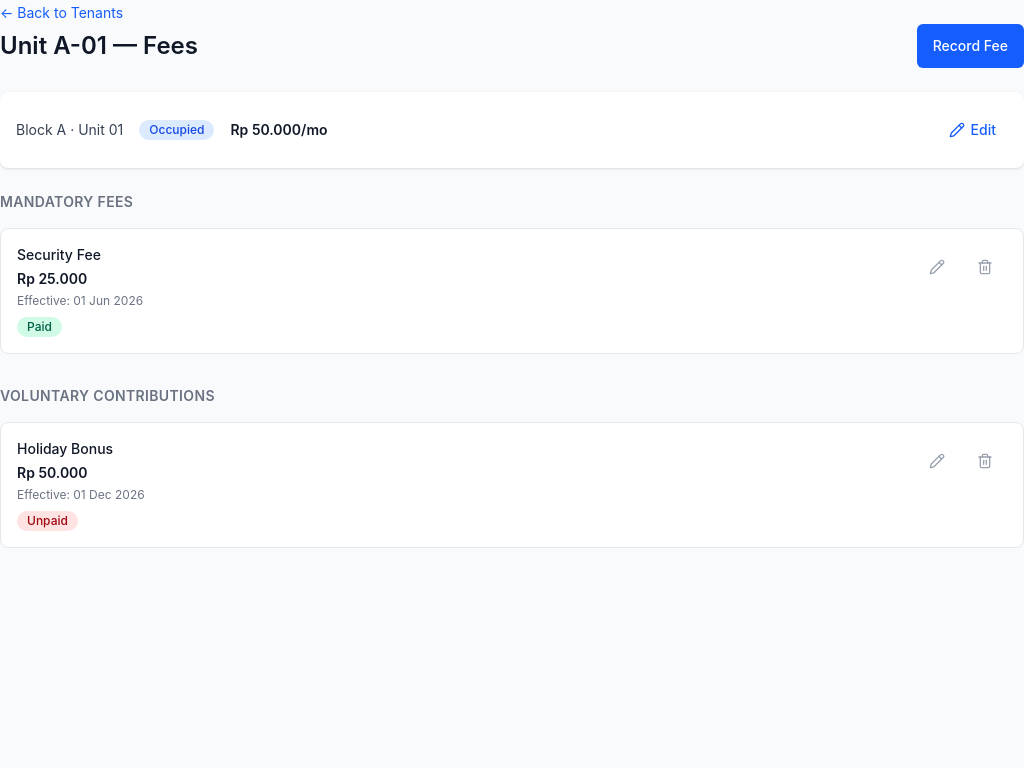
Test case: TenantDetailPage › opens ConfirmDialog when delete icon clicked
// Click delete icon on first fee card
Click the button named "Delete fee" in the row of "Security Fee" at x=985, y=267, box [963, 245, 1007, 289]
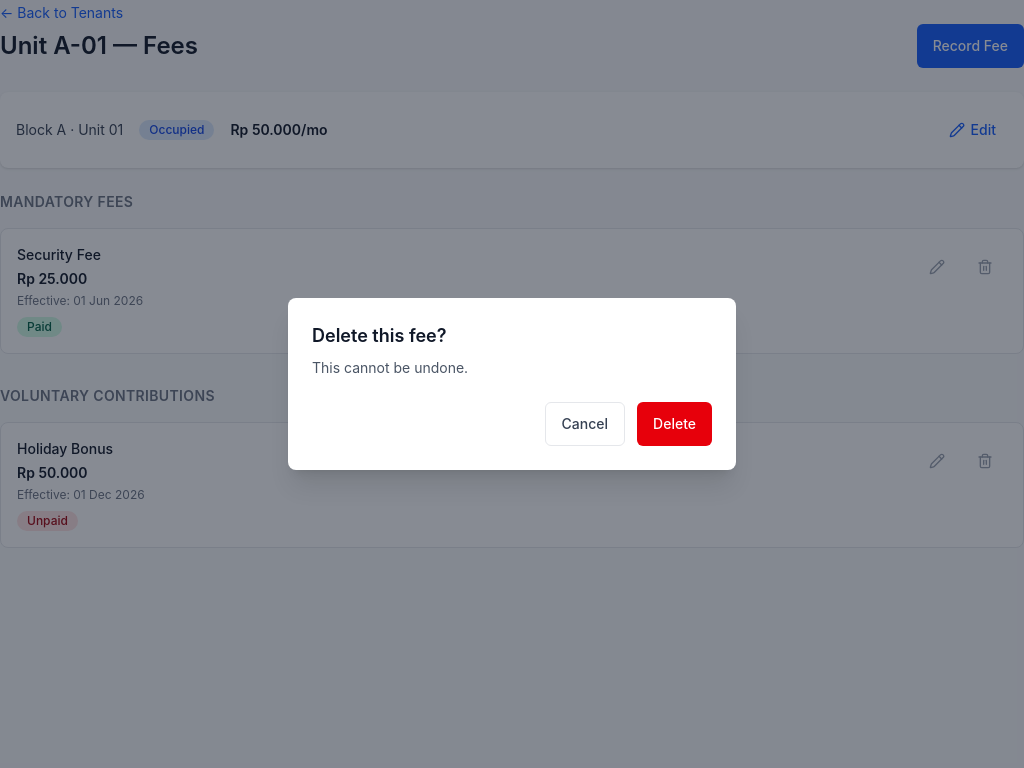
Check: the heading "Delete this fee?" is shown, box [312, 325, 446, 346]
Check: the text "This cannot be undone." is shown, box [312, 359, 468, 376]
